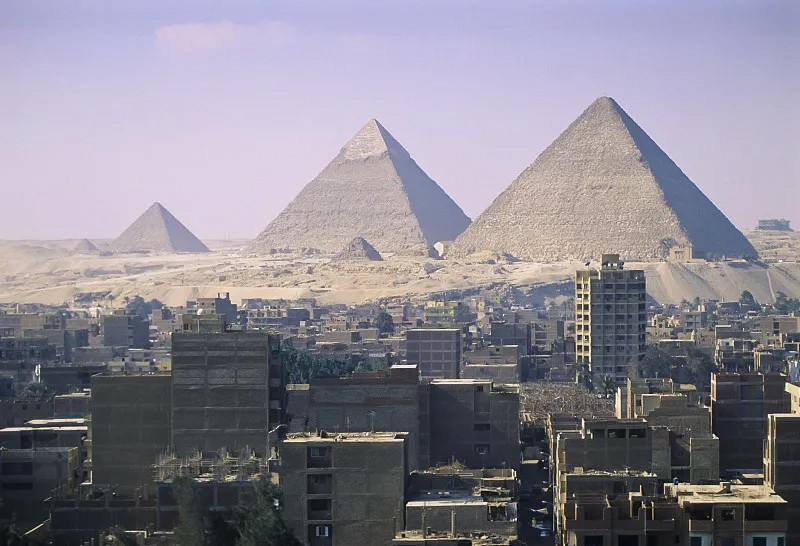Pyramid: (444, 98, 759, 261), (243, 120, 473, 258), (105, 203, 210, 253)
